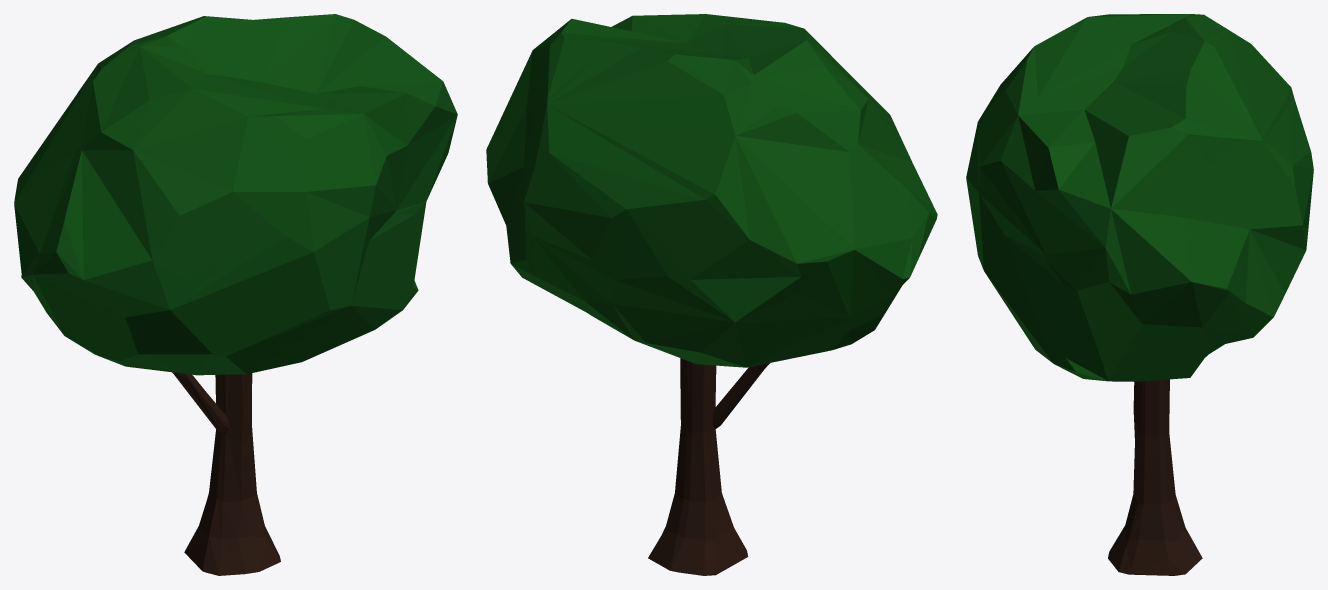
The model's file is SM_tree_19.fbx.
The picture shows the model from 3 angles, left to right: view 1: azimuth 30°, elevation 25°; view 2: azimuth 150°, elevation 25°; view 3: azimuth 270°, elevation 25°; orthographic projection.
Parts seen in each view (by area): view 1: tree_19; view 2: tree_19; view 3: tree_19.
Boxes of the visible parts, left/top/right/bottom form: tree_19: left=14, top=14, right=457, bottom=575; tree_19: left=486, top=14, right=937, bottom=575; tree_19: left=966, top=14, right=1313, bottom=575.
Size of the model in its own units: 680 by 826 by 503.
